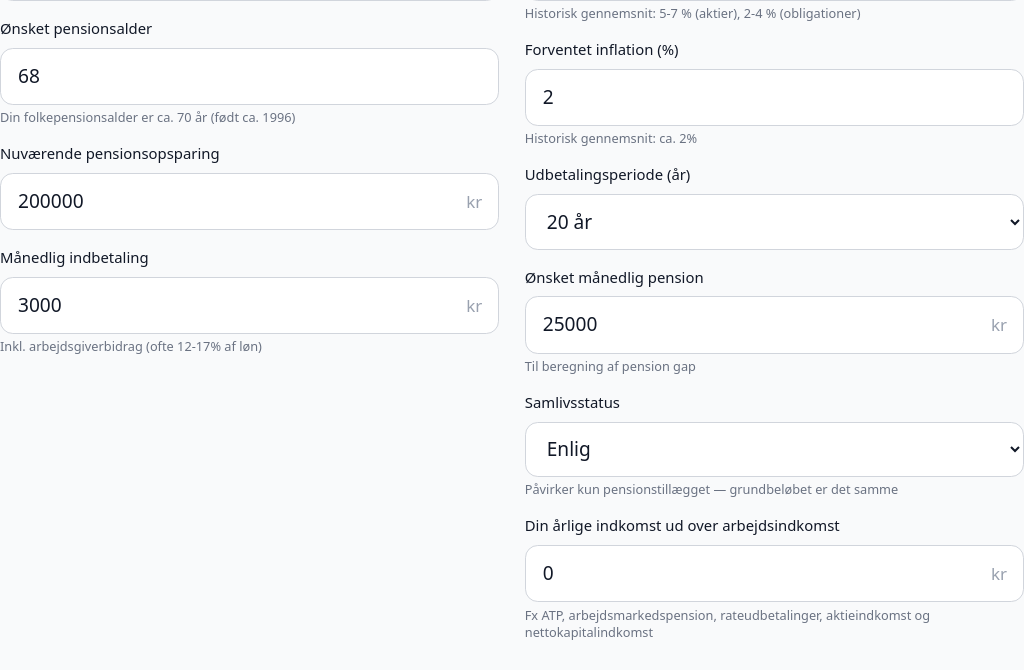
Test: PensionBeregner — pensionstillæg efter indkomst › sætter tillægget ned af andre indkomster og viser nedsættelsen
Replace the text in the number field labelled "Din årlige indkomst ud over arbejdsindkomst" with "119200" at (774, 574), box [525,545,1023,602]
(page scrolled)
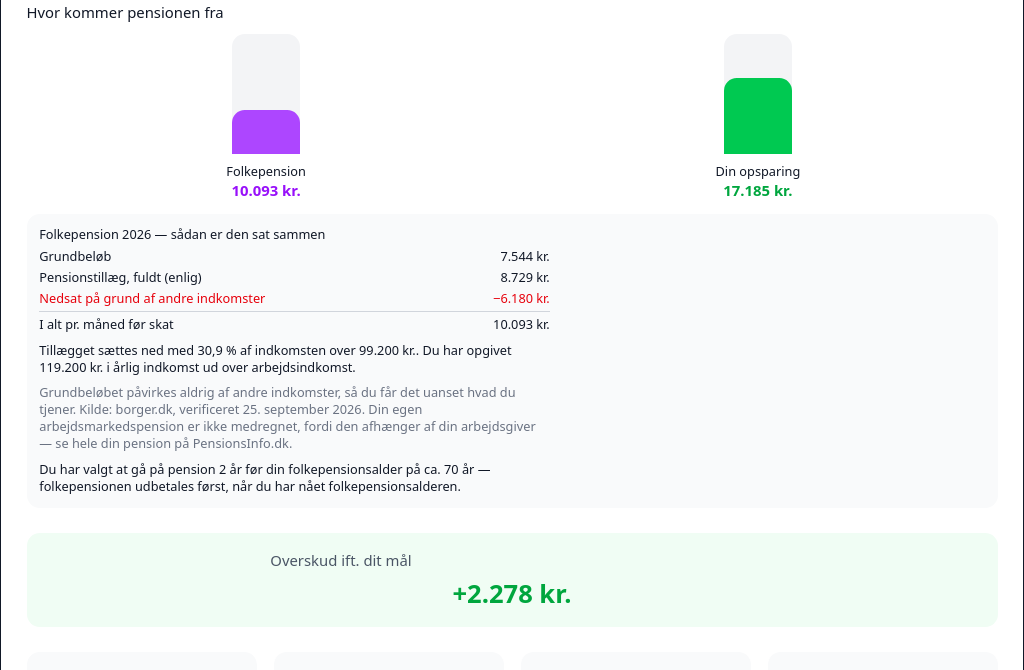
Expected: the list item "I alt pr. måned før skat" reads "I alt pr. måned før skat 10.093 kr.", [493,316,550,334]
Expected: the list item "Nedsat på grund af andre indkomster −6.180 kr." is shown, [39,290,550,307]
